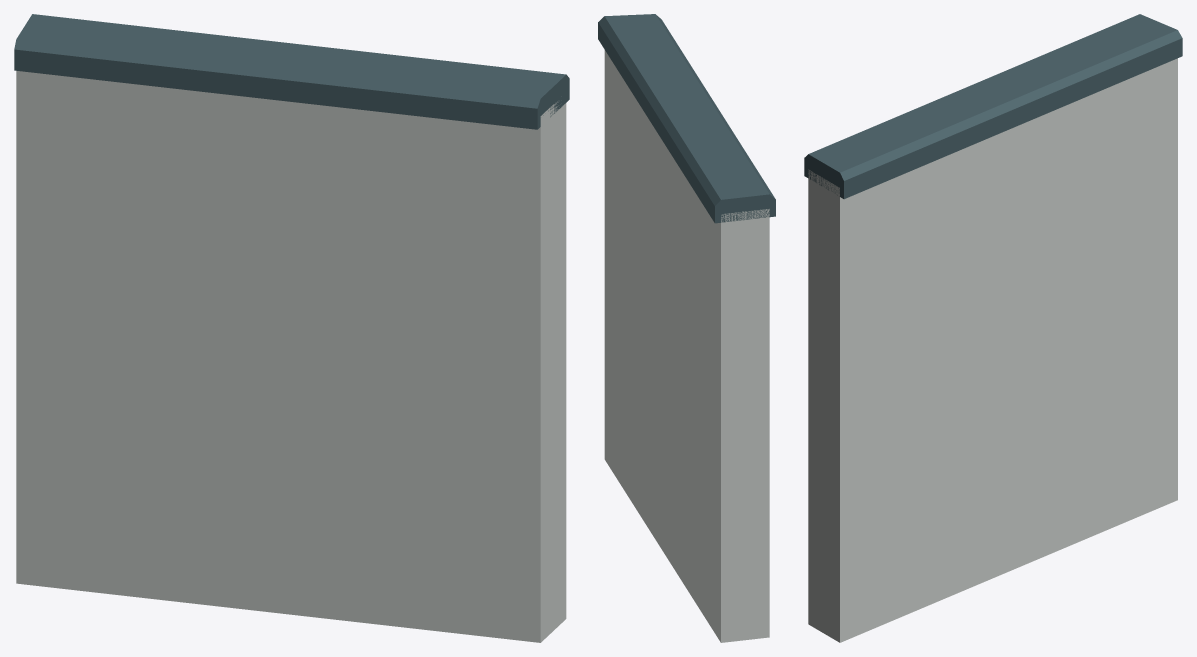
The model's file is halfwall_45_starboard_miter_8219_5924_7071_7071.glb.
3 views of the same model, side by side, from view 1: azimuth 30°, elevation 25°; view 2: azimuth 150°, elevation 25°; view 3: azimuth 270°, elevation 25° (orthographic). The views are drawn at different scales.
Visible parts, largest first — view 1: Seamless solid halfwall.057, Seamless top cap.057; view 2: Seamless solid halfwall.057, Seamless top cap.057; view 3: Seamless solid halfwall.057, Seamless top cap.057.
Part boxes in pixels (x1,y1,x2,y2): Seamless solid halfwall.057: (16,71,566,642); Seamless top cap.057: (14,14,569,129); Seamless solid halfwall.057: (604,50,769,642); Seamless top cap.057: (598,14,775,223); Seamless solid halfwall.057: (808,58,1177,642); Seamless top cap.057: (804,14,1182,199).
Size of the model in its own units: 0.5764 by 0.775 by 0.565.
